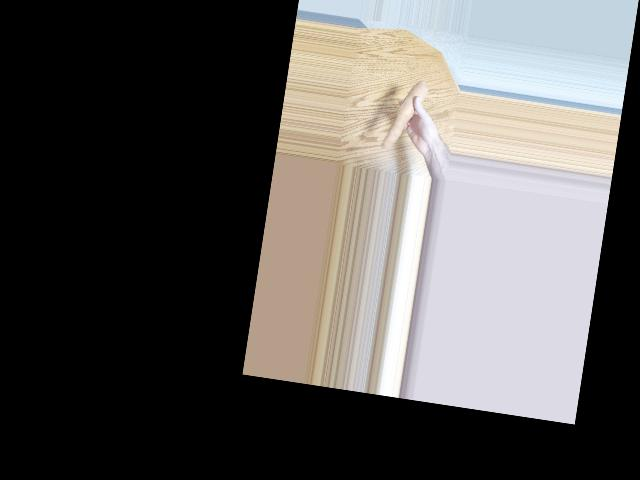sweet_potato: (386, 74, 421, 153)
